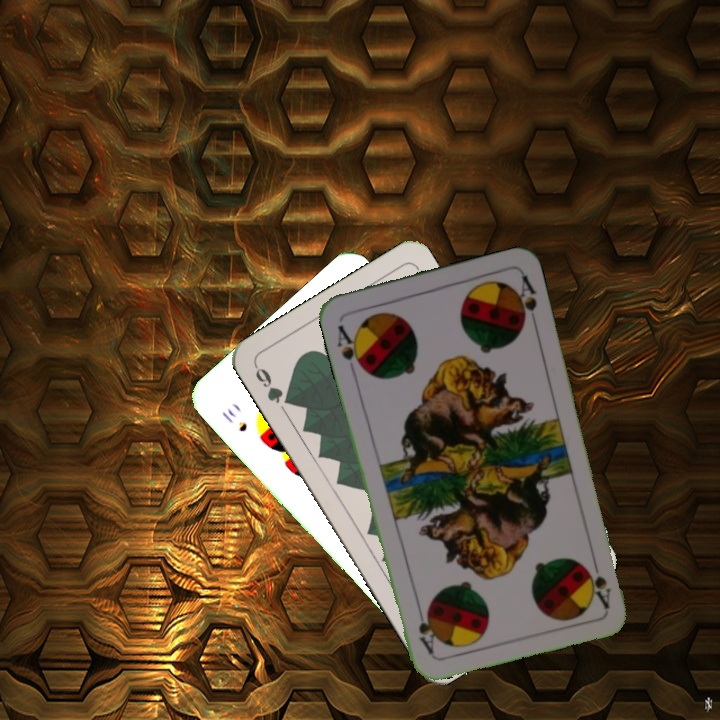G9: (250, 361, 296, 408)
S10: (217, 404, 250, 435)
SA: (581, 552, 614, 611), (333, 320, 367, 376)
